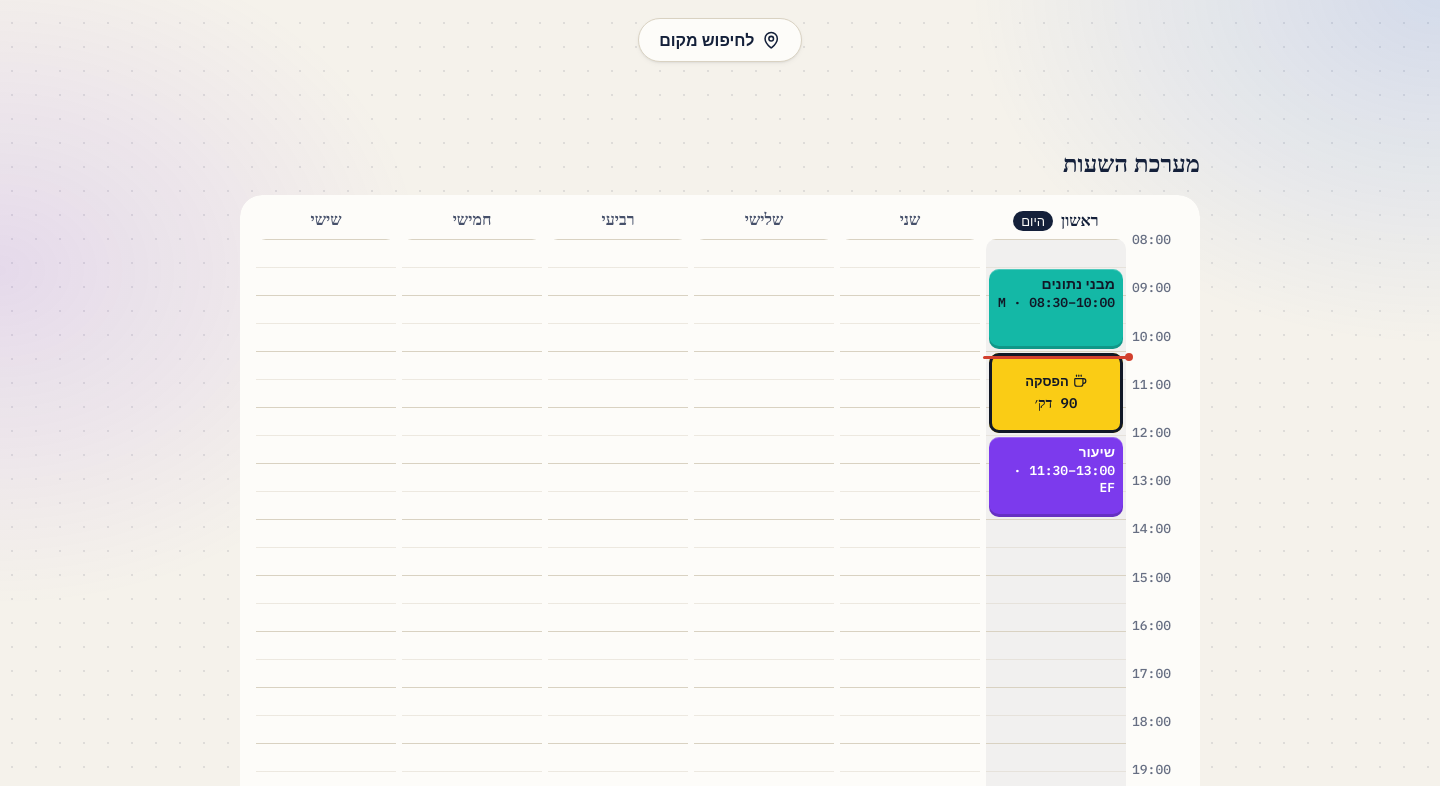
it: the timetable › a break today shows where to go in it
(page scrolled)
Click the button with aria-label "הפסקה של 90 דקות": (1056, 393) [989,353,1123,433]
(page scrolled)
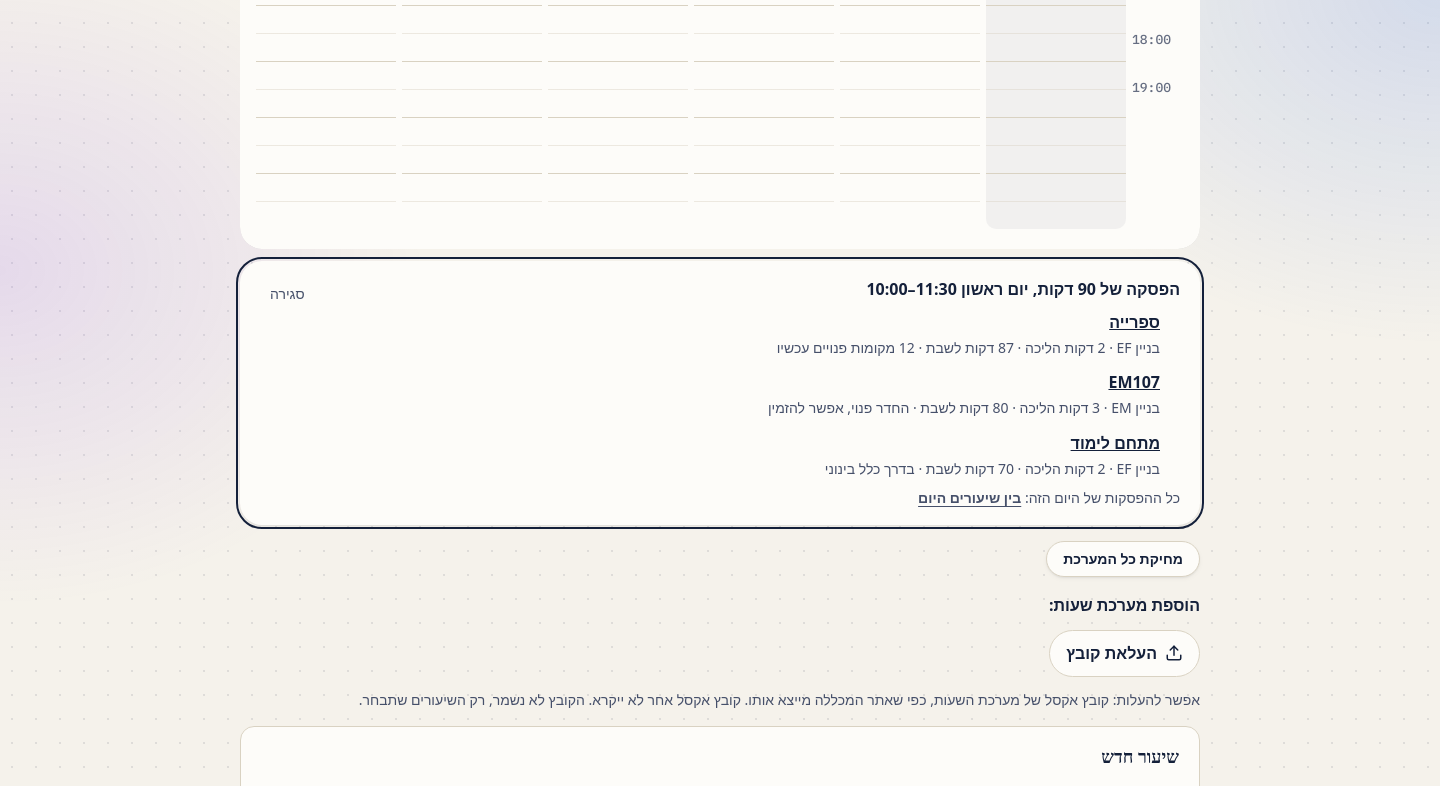
Expected: the link "ספרייה" is shown, [1109,311,1160,333]
